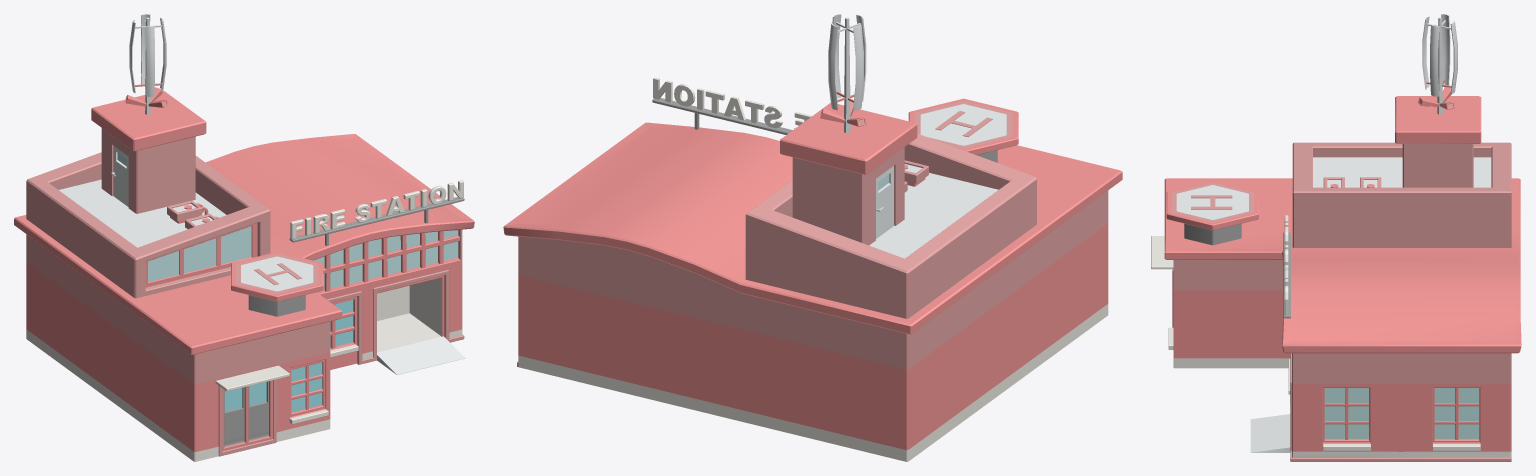
The model's file is Fire_Station.fbx.
3 views of the same model, side by side, from view 1: azimuth 30°, elevation 25°; view 2: azimuth 150°, elevation 25°; view 3: azimuth 270°, elevation 25° (orthographic). The views are drawn at different scales.
Visible parts, largest first — view 1: Fire_Station; view 2: Fire_Station; view 3: Fire_Station.
Boxes of the visible parts, left/top/right/bottom form: Fire_Station: left=14, top=14, right=474, bottom=461; Fire_Station: left=503, top=14, right=1122, bottom=461; Fire_Station: left=1151, top=14, right=1521, bottom=461.
Bounding box in the file's own units: 1618 × 1469 × 1512.
